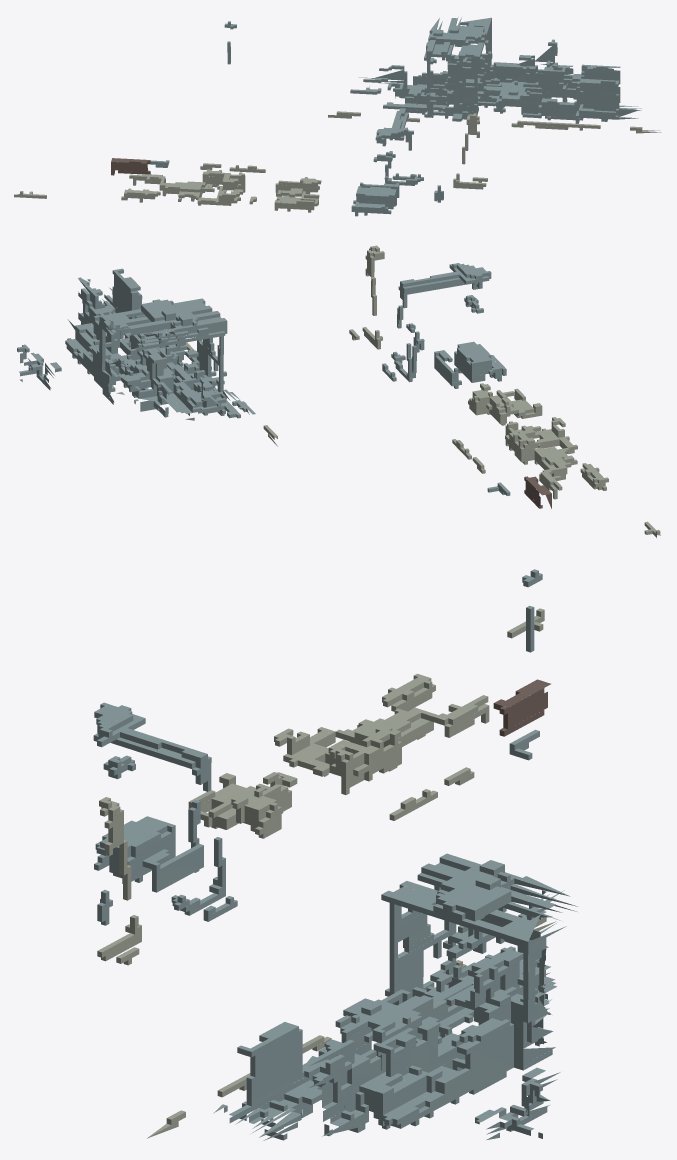
3 views of the same model, one above another, from view 1: azimuth 30°, elevation 25°; view 2: azimuth 150°, elevation 25°; view 3: azimuth 270°, elevation 25° (orthographic). The views are drawn at different scales.
Visible parts, largest first — view 1: measured-industrial; view 2: measured-industrial; view 3: measured-industrial.
Part boxes in pixels (x1,y1,x2,y2): measured-industrial: [14, 17, 661, 216]; measured-industrial: [17, 245, 660, 537]; measured-industrial: [93, 569, 577, 1140].
Bounding box in the file's own units: 214 × 47.23 × 81.9.
